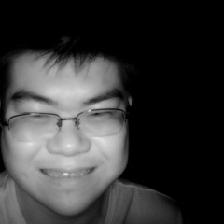happy: (3, 35, 141, 218)
